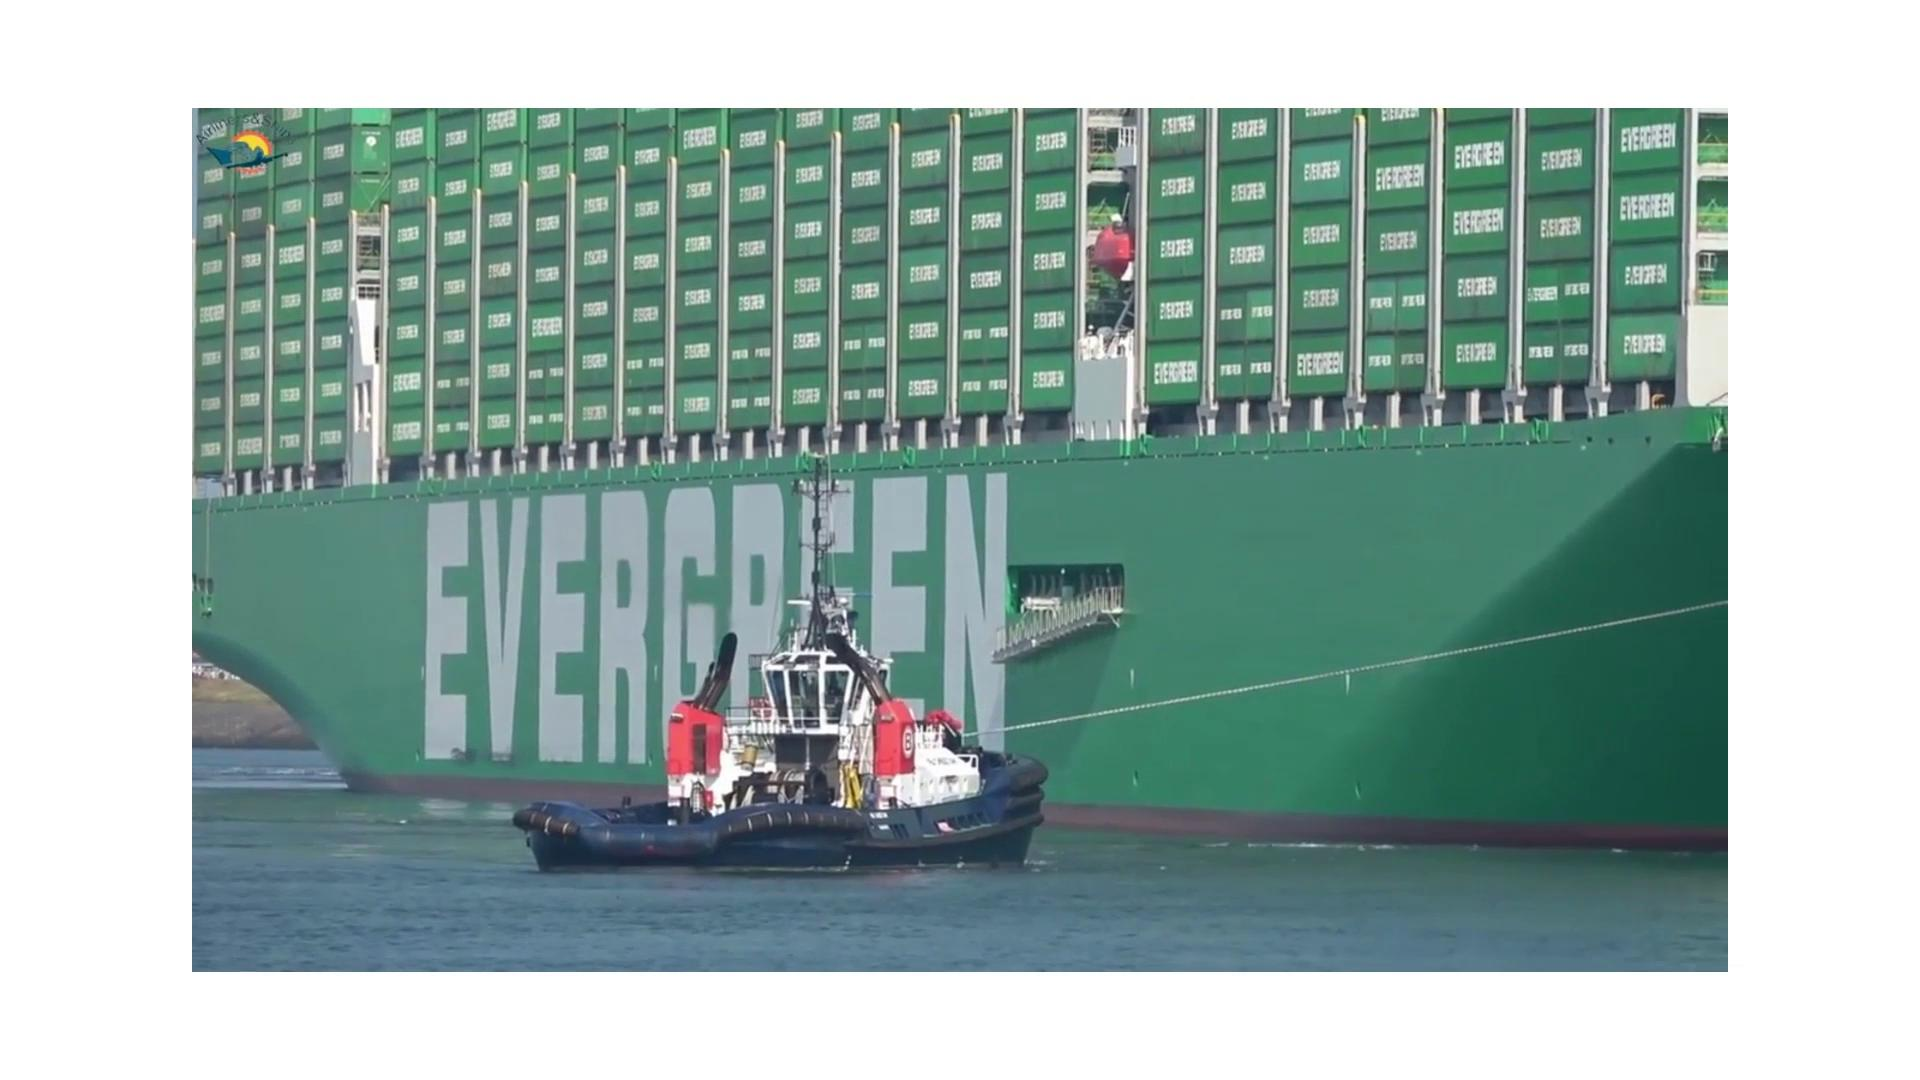OCR: (390, 468, 1039, 794)
